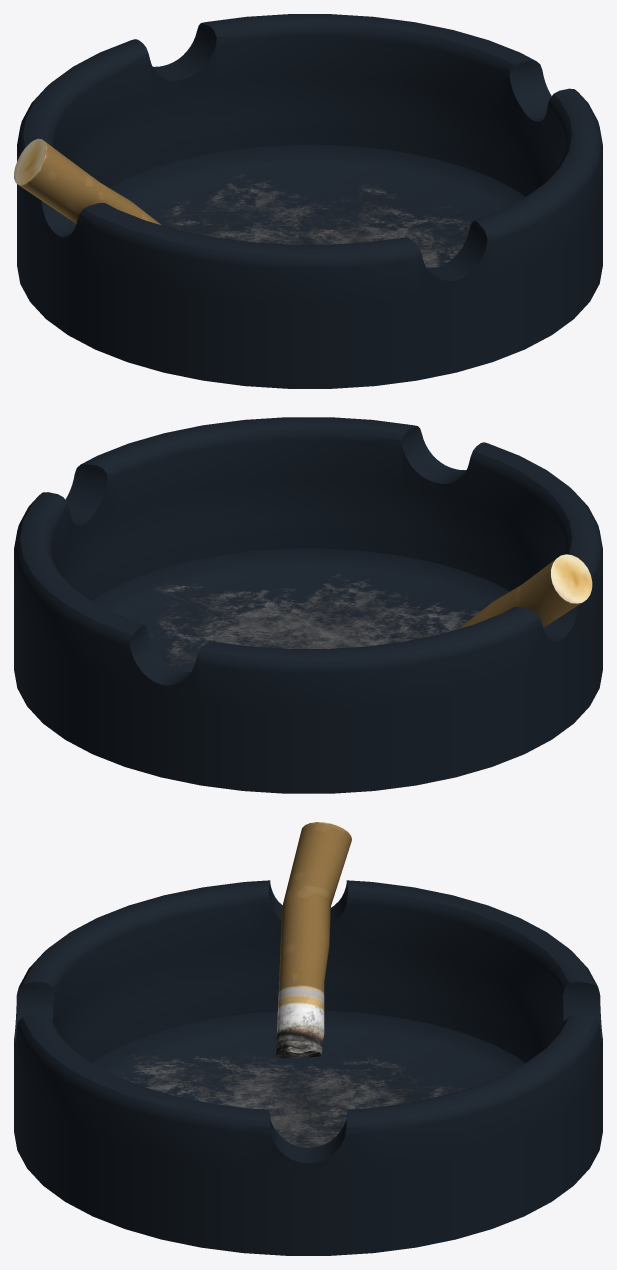
The model's file is ashtray.fbx.
3 views of the same model, one above another, from view 1: azimuth 30°, elevation 25°; view 2: azimuth 150°, elevation 25°; view 3: azimuth 270°, elevation 25° (orthographic).
Parts seen in each view (by area): view 1: Plane, Cylinder.002; view 2: Plane, Cylinder.002; view 3: Plane, Cylinder.002.
Boxes of the visible parts, box(x1,y1,x2,y2) form: Plane: box(17, 14, 602, 388); Cylinder.002: box(14, 138, 160, 224); Plane: box(14, 417, 602, 793); Cylinder.002: box(459, 554, 592, 628); Plane: box(14, 880, 602, 1255); Cylinder.002: box(275, 822, 351, 1058).
Bounding box in the file's own units: 17.52 × 5.67 × 16.54.
2 materials, 2 textured.
